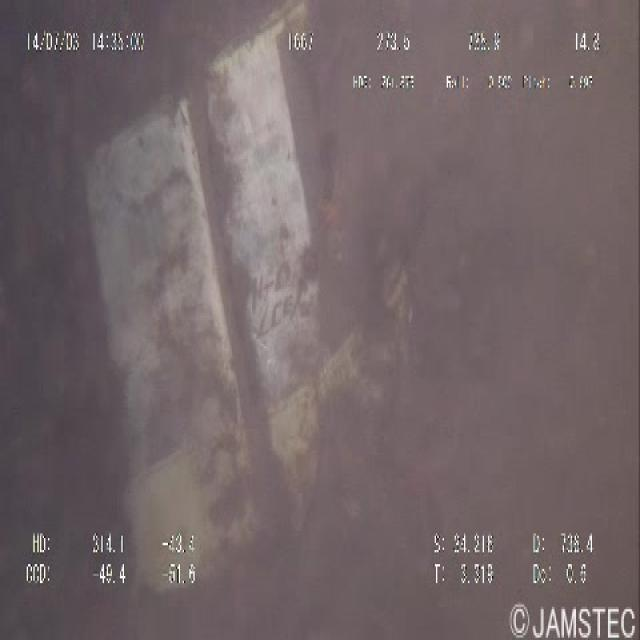plastic: (62, 5, 410, 609)
